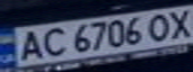0: (106, 16, 130, 48)
6: (69, 20, 93, 54), (124, 14, 148, 45)
7: (87, 19, 112, 52)
A: (12, 28, 48, 62)
C: (36, 25, 69, 58)
O: (145, 11, 175, 43)
X: (163, 7, 193, 39)
